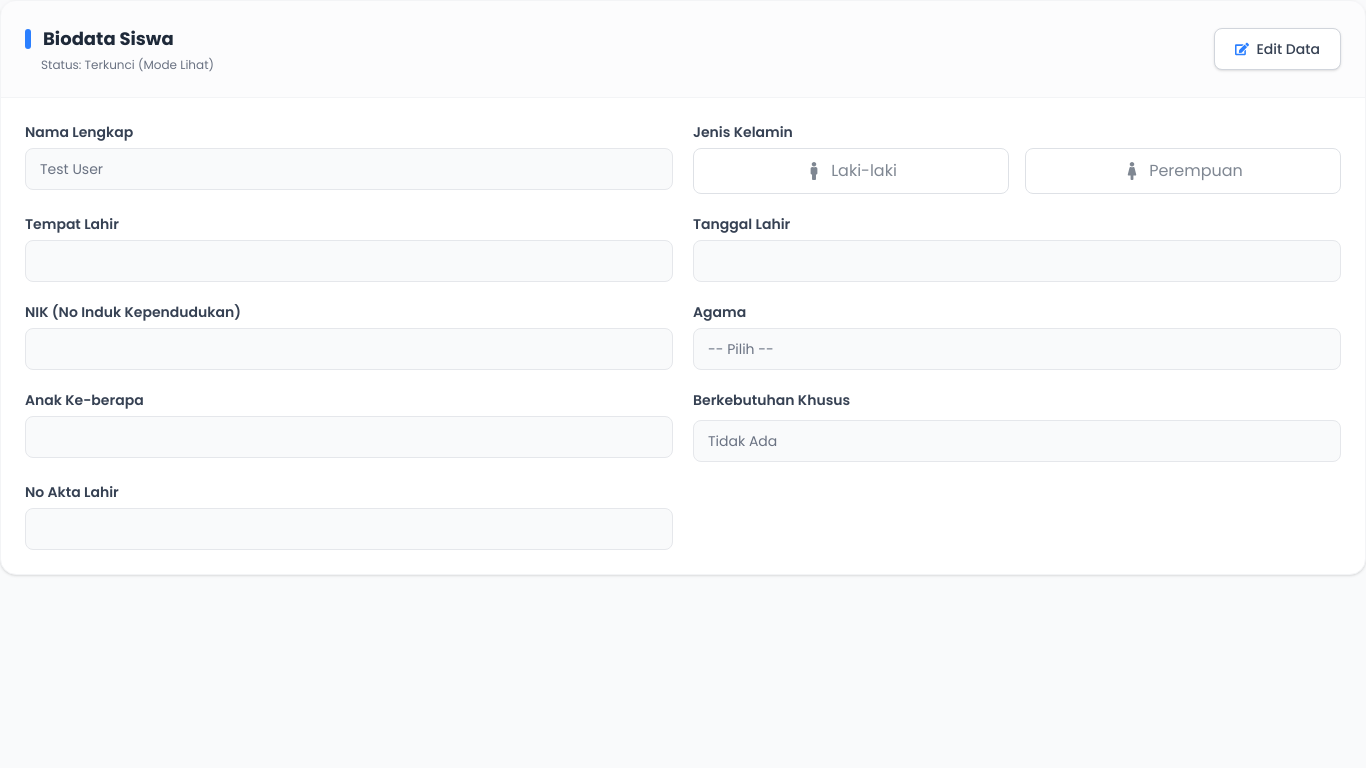
Test case: DataForm Component › renders form and switches to edit mode
The width and height of the screenshot is (1366, 768).
Click edit
What coordinates should you click on to do the following:
click the button "Edit Data"
I would click on:
 (1277, 49)
Its box is left=1214, top=28, right=1341, bottom=70.
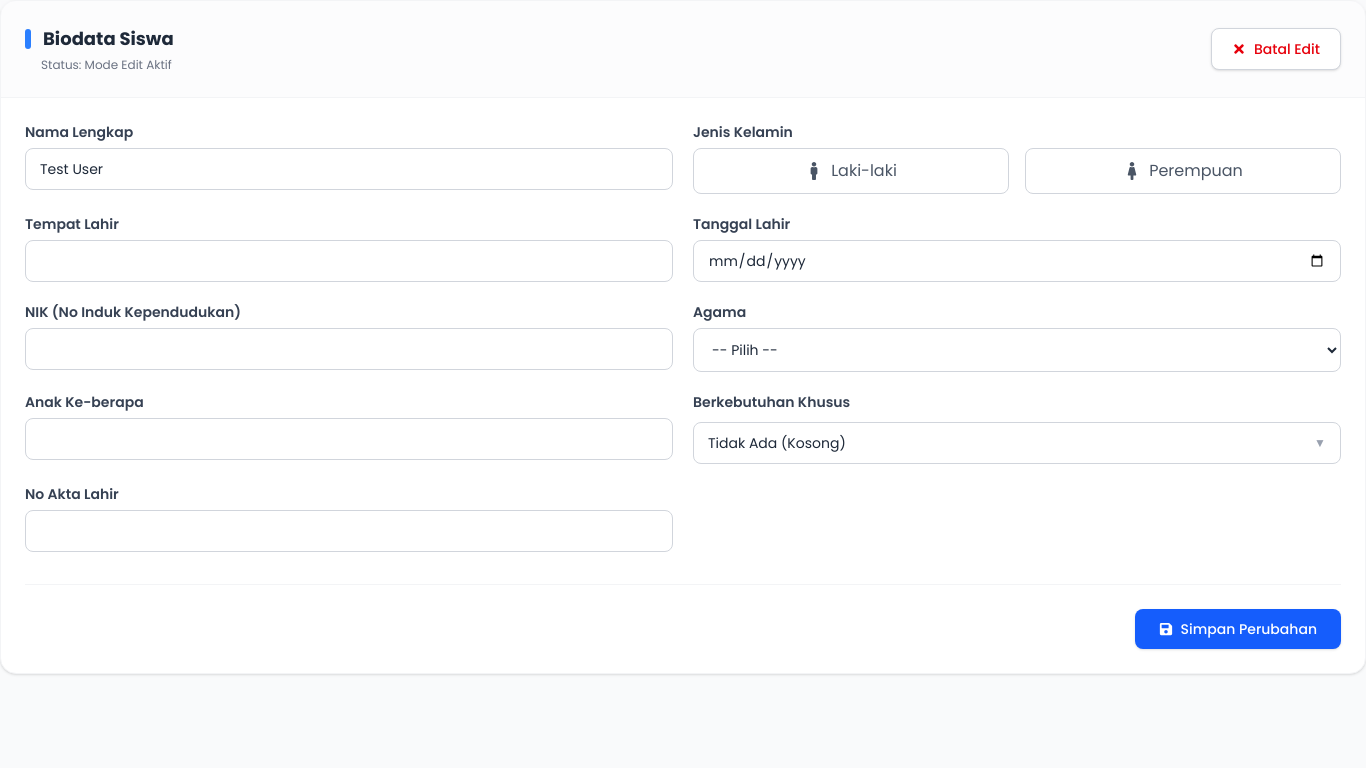
Expected: the button "Simpan Perubahan" is shown, left=1134, top=609, right=1341, bottom=649
